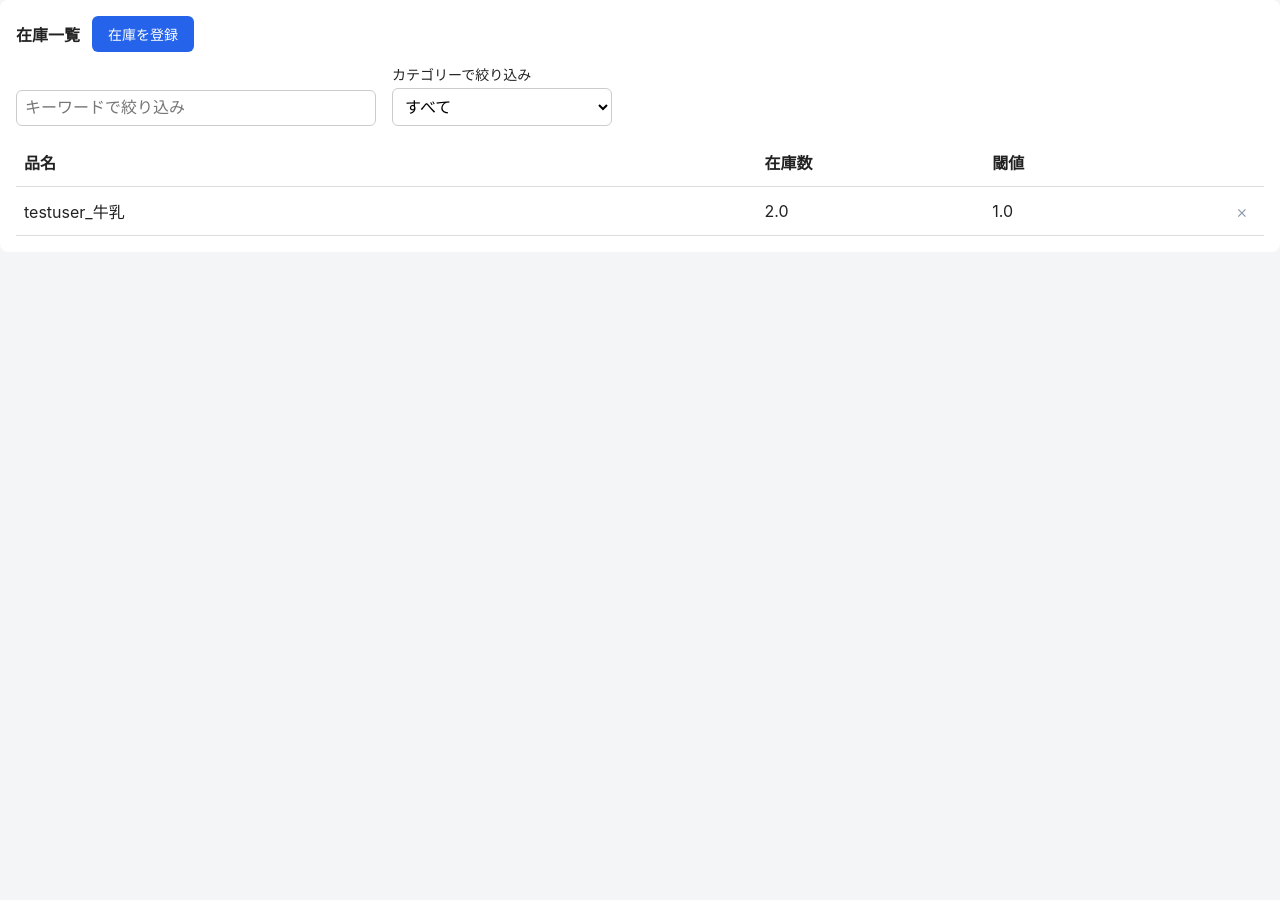
it: 在庫の一覧と詳細 › 内部クリックで閉じず、背景クリックで閉じる
This screenshot has width=1280, height=900.
Click the button with aria-label "testuser_牛乳の詳細" at (74, 212), box x1=16 y1=187 x2=1220 y2=236
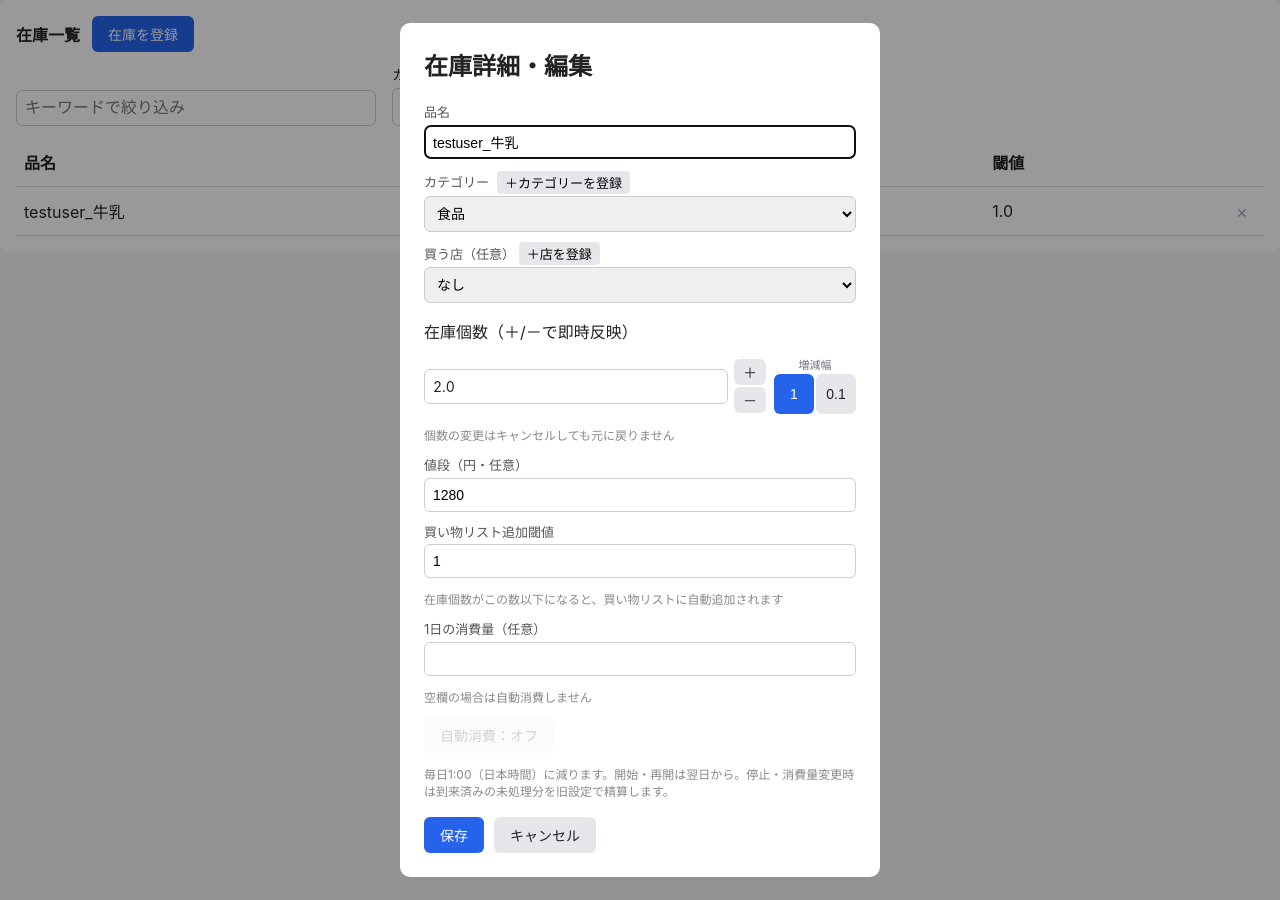
Select "食品" in the dropdown labelled "カテゴリー" at (640, 214), box x1=424 y1=196 x2=856 y2=232
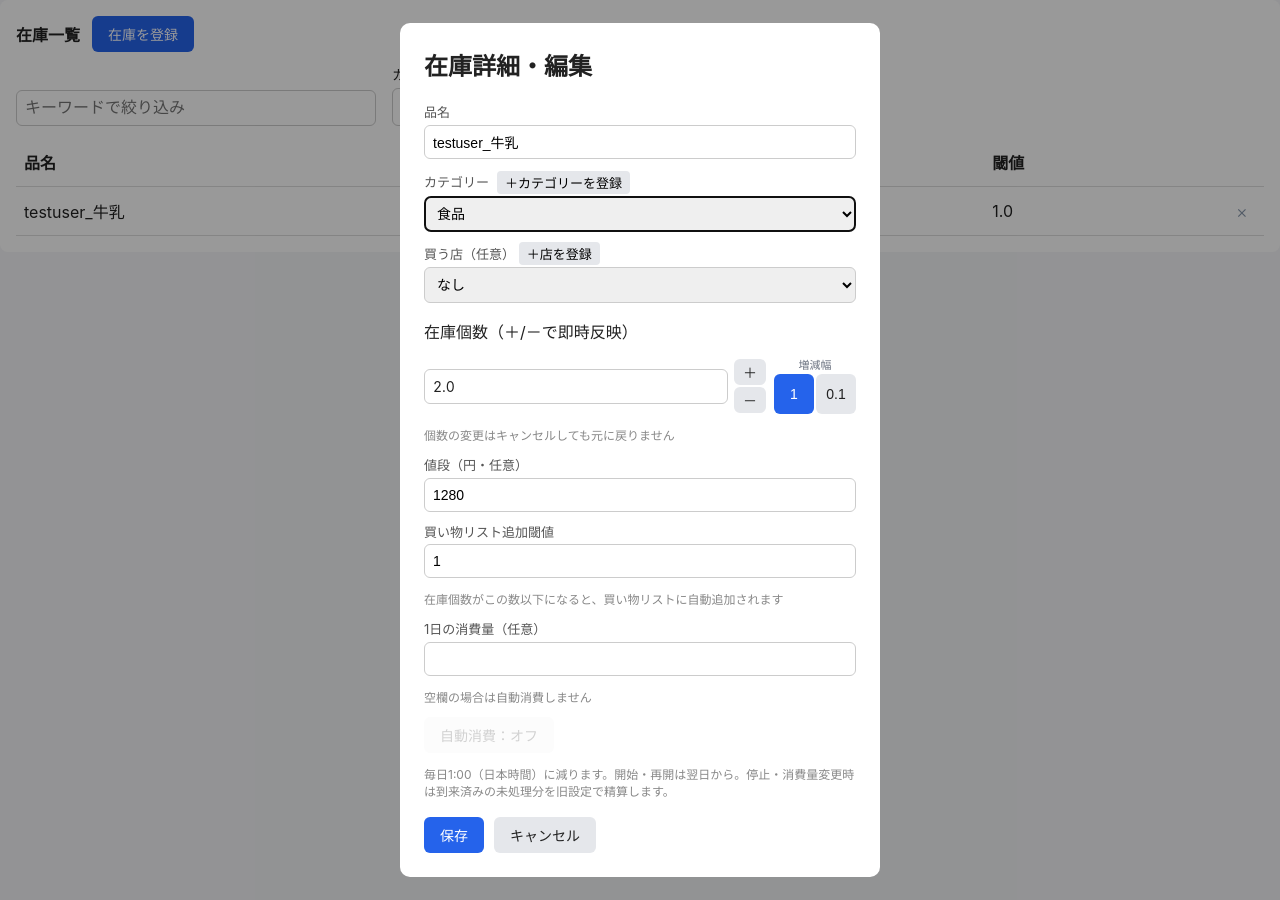
Check: the dialog is shown, box x1=400 y1=23 x2=880 y2=877
Click the element that starts with "在庫詳細・編集" at (77, 450), box x1=0 y1=0 x2=1279 y2=899
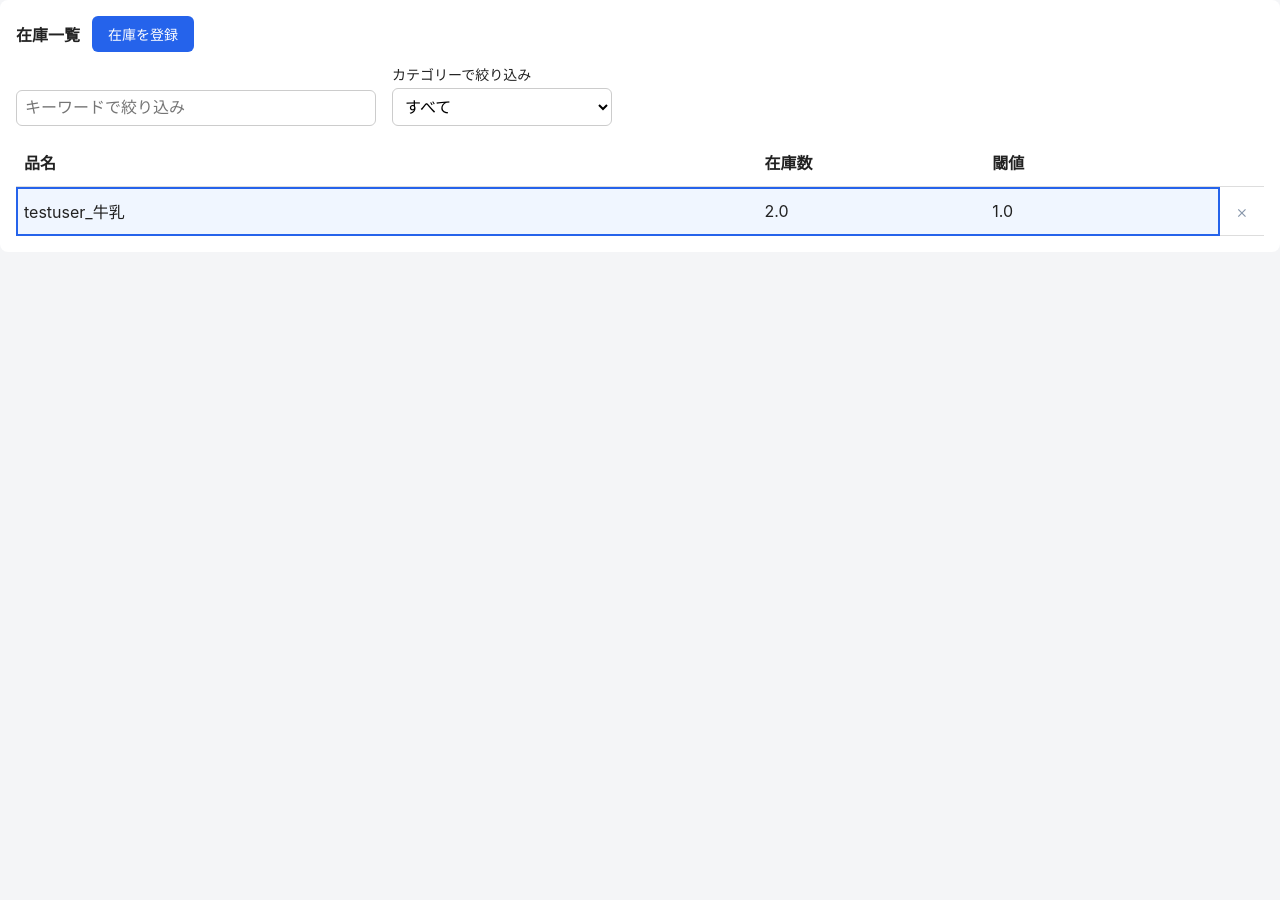
Check: the dialog is gone
